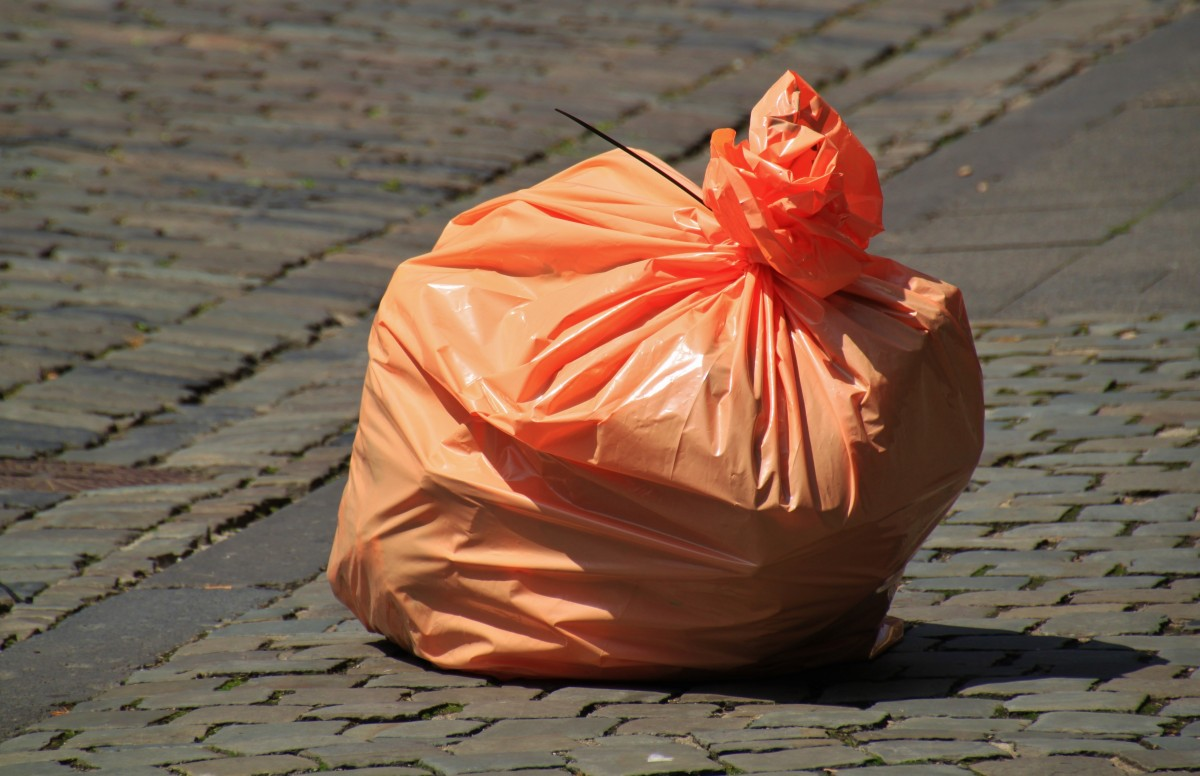plastic_bagwdw: (268, 4, 1099, 766)
